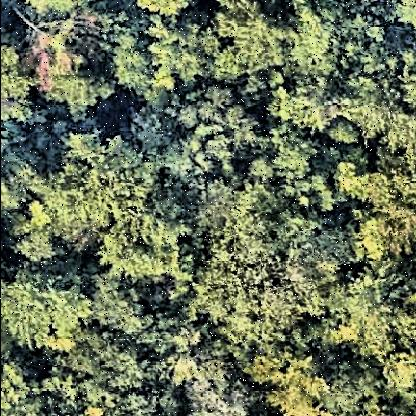tree-top: (194, 196, 338, 338), (31, 123, 153, 251), (3, 263, 95, 358), (99, 190, 186, 286), (39, 13, 117, 113), (321, 273, 412, 358), (348, 154, 416, 262), (182, 88, 266, 174), (120, 13, 195, 99), (61, 335, 146, 407), (263, 354, 355, 416), (211, 2, 290, 74), (290, 5, 372, 71), (142, 16, 214, 87), (344, 75, 408, 145), (185, 359, 260, 416), (324, 353, 390, 416), (269, 73, 339, 131), (258, 130, 325, 190), (1, 31, 39, 125), (90, 278, 150, 334), (114, 28, 157, 94), (1, 355, 46, 416), (91, 389, 179, 416), (382, 343, 416, 404), (19, 2, 93, 22), (129, 2, 201, 22), (393, 1, 416, 39)
